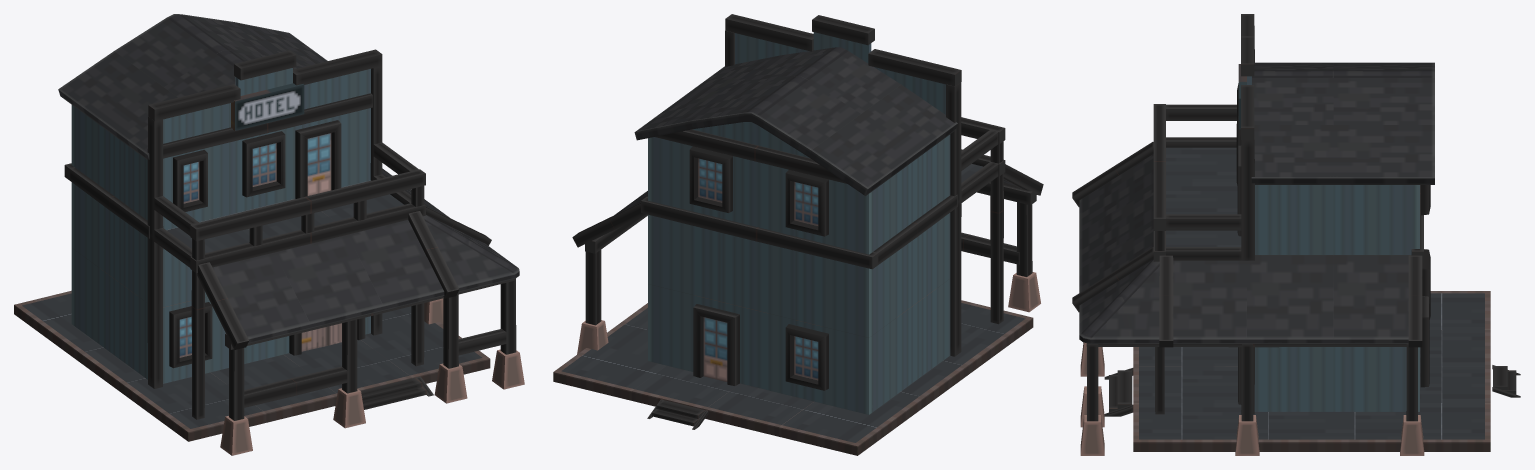
File: house_v3_015.fbx
3 views of the same model, side by side, from view 1: azimuth 30°, elevation 25°; view 2: azimuth 150°, elevation 25°; view 3: azimuth 270°, elevation 25° (orthographic). The views are drawn at different scales.
Parts seen in each view (by area): view 1: house_v3_015; view 2: house_v3_015; view 3: house_v3_015.
Boxes of the visible parts, <box> form: house_v3_015: <box>14,14,524,455</box>; house_v3_015: <box>553,14,1043,455</box>; house_v3_015: <box>1072,14,1520,455</box>.
Bounding box in the file's own units: 866 × 808 × 1036.
